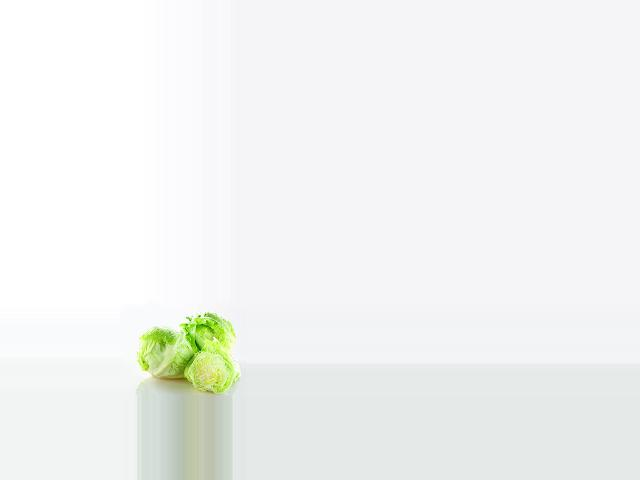lettuce: (177, 307, 237, 356)
